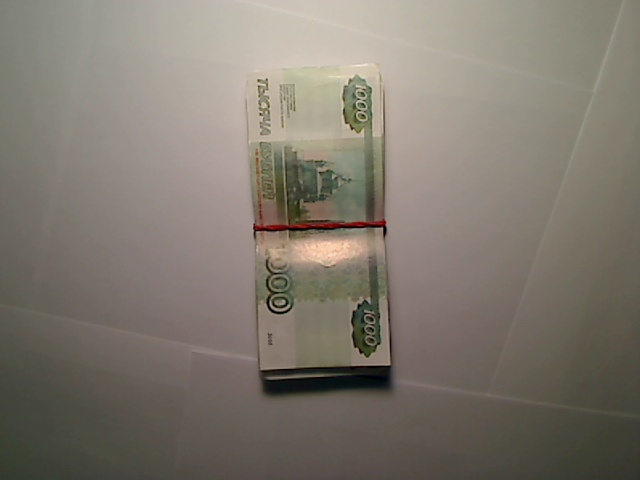banknotes: (236, 60, 398, 391)
